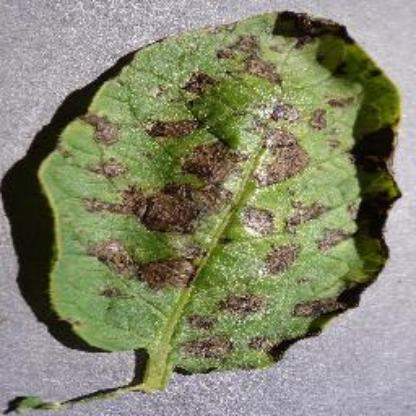Early-Blight: (34, 6, 404, 398)
